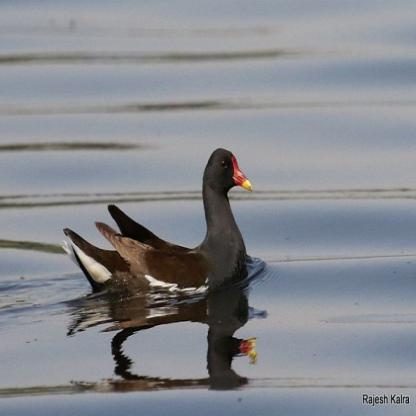Burung: (62, 148, 252, 296)
